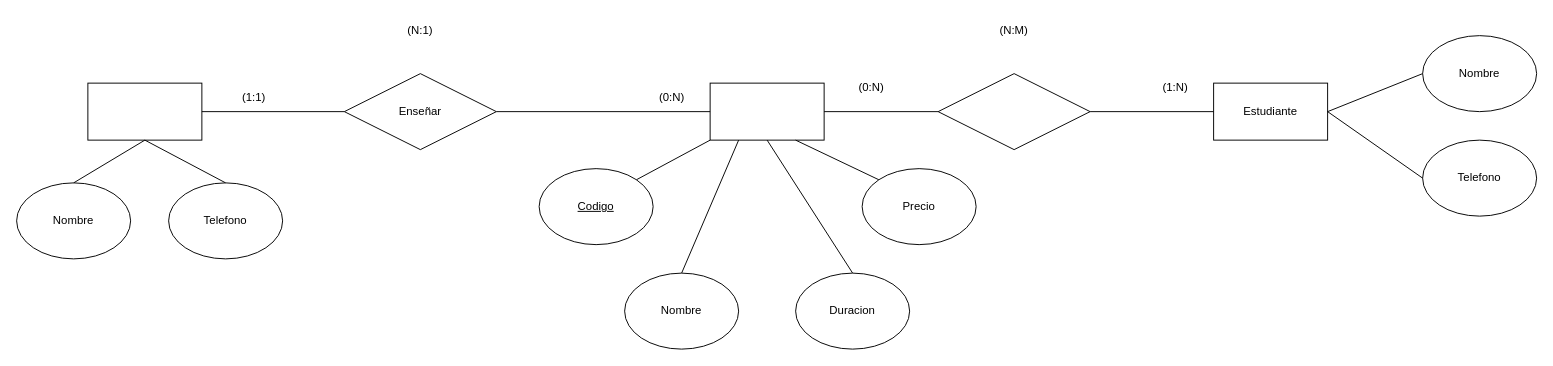
Image size: 1553x366. Some labels were removed from this diagram. Each missing label, with the centre of its shape:
Cusos: the point at 766,111
Instructor: the point at 144,111
Tomar: the point at 1013,111
